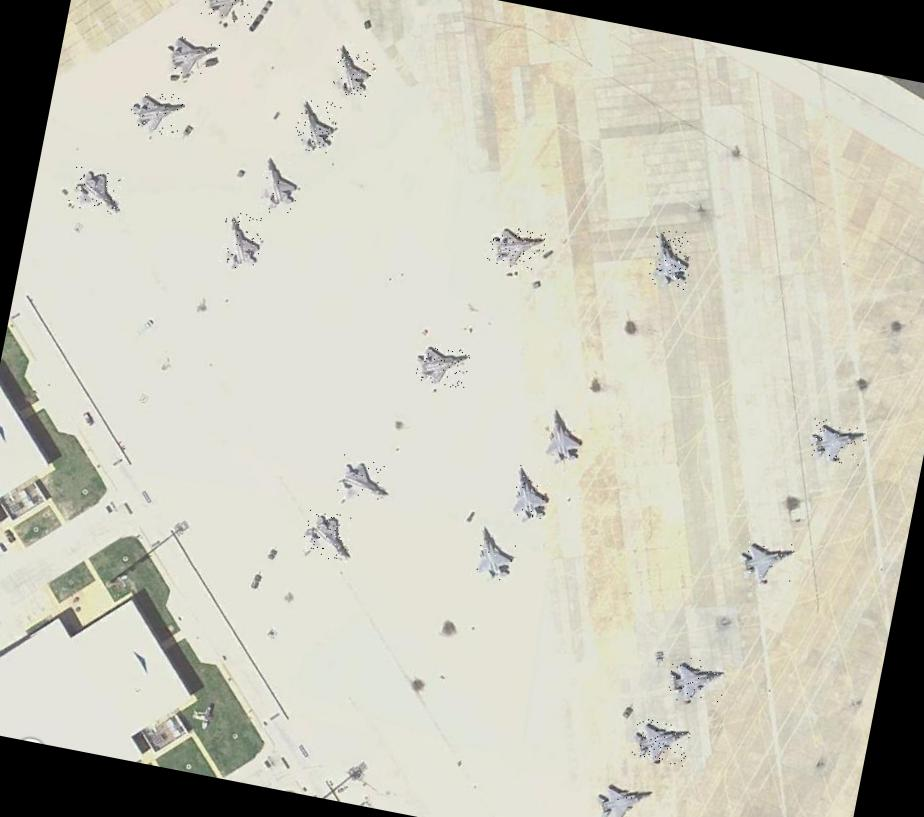A13: (732, 534, 798, 588), (665, 654, 728, 708), (468, 520, 522, 582), (646, 226, 697, 290), (805, 416, 869, 466), (630, 716, 692, 767), (587, 774, 656, 817), (540, 406, 588, 466), (508, 464, 554, 520)
A15: (252, 152, 304, 217), (486, 222, 547, 274), (300, 507, 356, 562), (291, 96, 342, 156), (161, 31, 220, 82), (412, 339, 472, 389), (217, 210, 266, 271), (128, 86, 186, 137), (68, 164, 126, 215), (330, 40, 378, 98), (336, 454, 390, 504), (199, 0, 258, 25)
